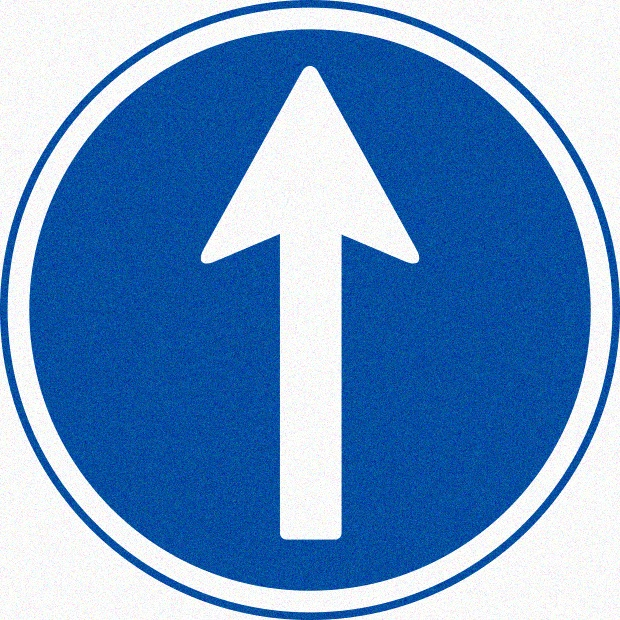Direction_sign: (7, 4, 615, 613)
